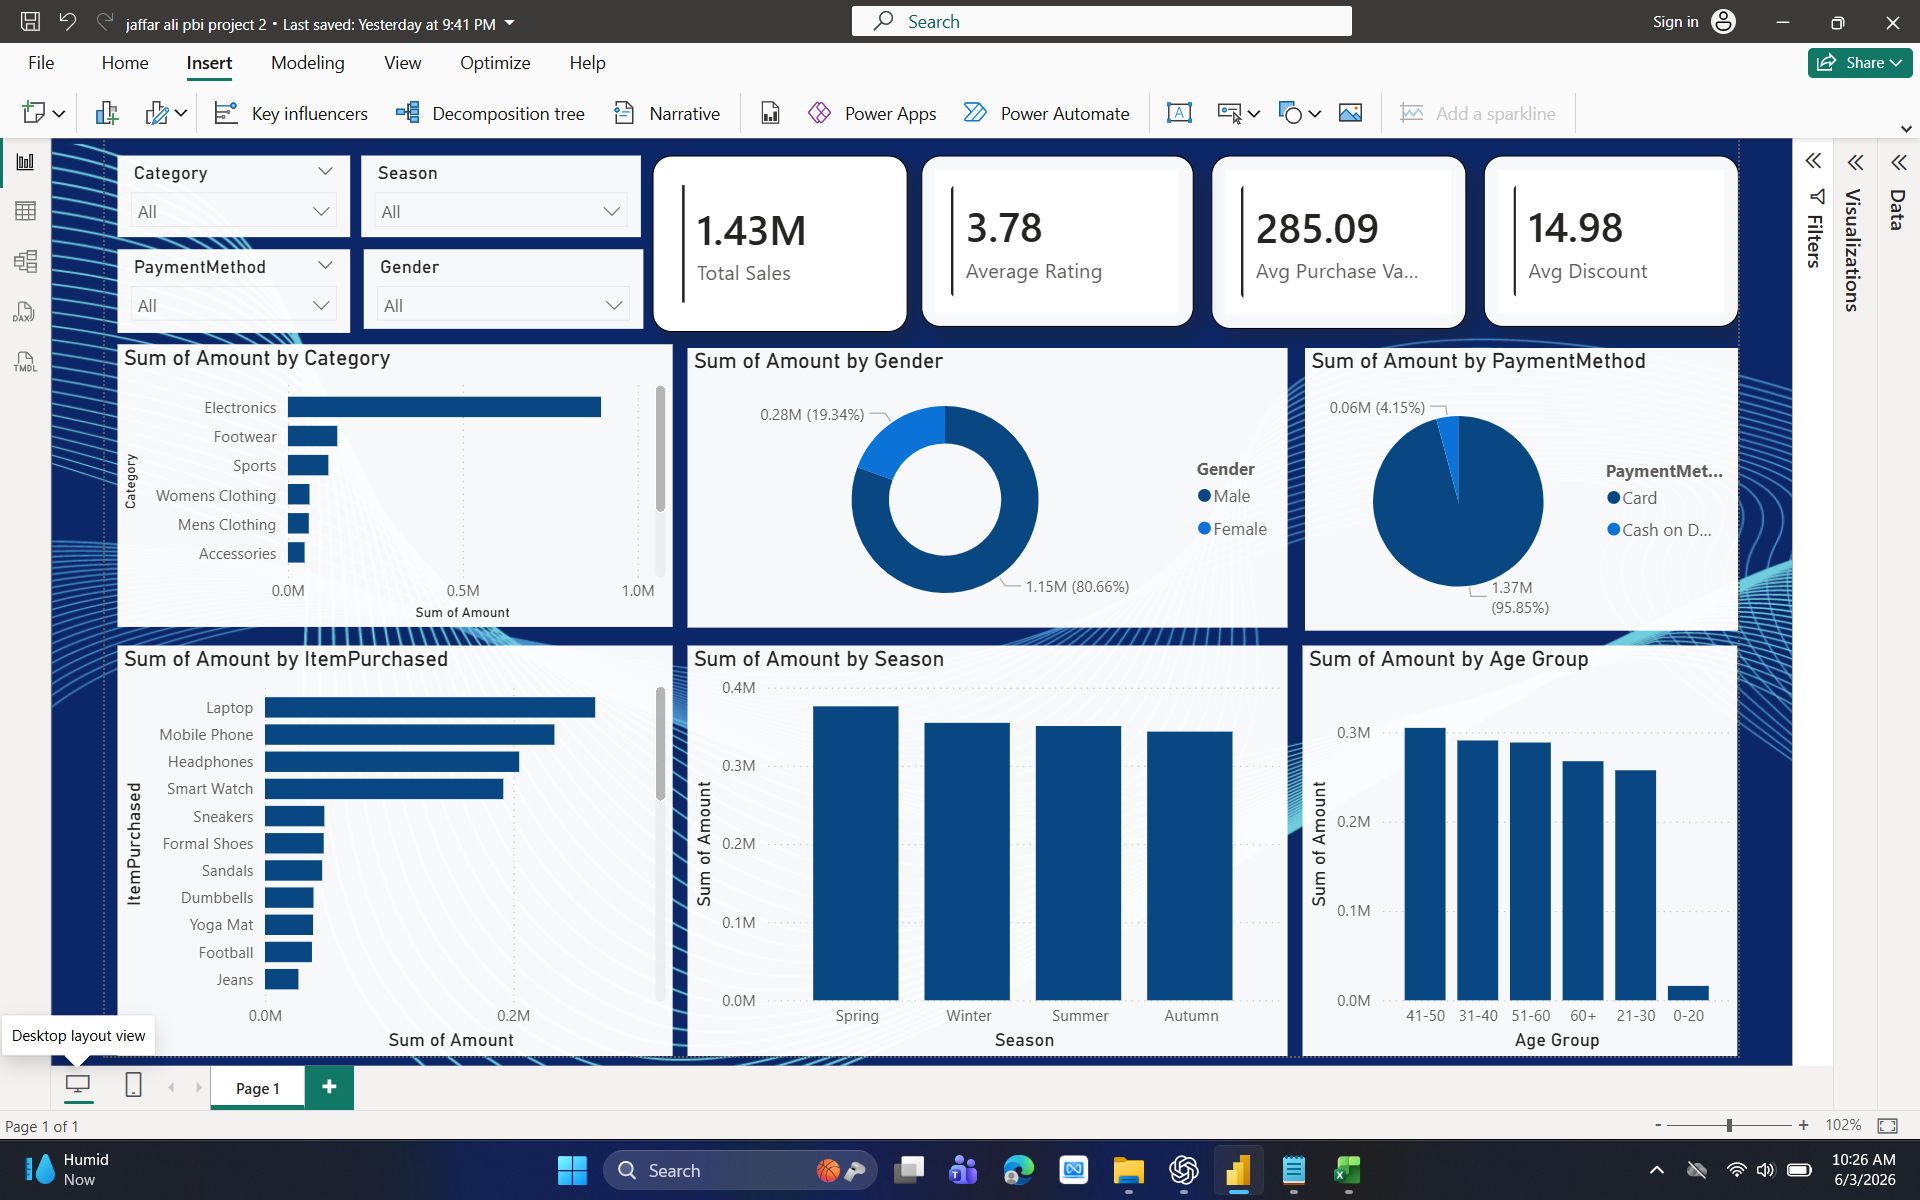

The dashboard page shown, as its layout file describes it:
{"tool":"powerbi","page":{"name":"Page 1","canvas":[1280,720],"ordinal":0},"visuals":[{"type":"cardVisual","fields":{"Data":["store_sales.Total Sales"]},"box":[429.5,13.6,199.8,138.6],"z":0},{"type":"cardVisual","fields":{"Data":["store_sales.Avg Purchase Value"]},"box":[867.1,13.6,199.8,135.9],"z":2000},{"type":"cardVisual","fields":{"Data":["store_sales.Average Rating"]},"box":[640.1,13.6,213.4,134.6],"z":3000},{"type":"cardVisual","fields":{"Data":["store_sales.Avg Discount"]},"box":[1080.5,13.6,199.8,134.6],"z":4000},{"type":"clusteredBarChart","fields":{"Y":["Sum(store_sales.Amount)"],"Category":["store_sales.Category"]},"box":[9.5,161.7,434.9,221.5],"z":5000},{"type":"clusteredBarChart","fields":{"Category":["store_sales.ItemPurchased"],"Y":["Sum(store_sales.Amount)"]},"box":[9.5,398.2,434.9,322.1],"z":6000},{"type":"donutChart","fields":{"Category":["store_sales.Gender"],"Y":["Sum(store_sales.Amount)"]},"box":[456.7,164.5,470.3,218.8],"z":7000},{"type":"columnChart","fields":{"Category":["store_sales.Season"],"Y":["Sum(store_sales.Amount)"]},"box":[456.7,398.2,470.3,322.1],"z":8000},{"type":"pieChart","fields":{"Category":["store_sales.PaymentMethod"],"Y":["Sum(store_sales.Amount)"]},"box":[940.5,164.5,339.8,221.5],"z":9000},{"type":"columnChart","fields":{"Category":["store_sales.Age Group"],"Y":["Sum(store_sales.Amount)"]},"box":[939.1,398.2,341.1,322.1],"z":10000},{"type":"slicer","fields":{"Values":["store_sales.Gender"]},"box":[202.5,87,218.8,62.5],"z":11000},{"type":"slicer","fields":{"Values":["store_sales.Category"]},"box":[9.5,13.6,182.1,63.9],"z":12000},{"type":"slicer","fields":{"Values":["store_sales.Season"]},"box":[201.1,13.6,218.8,63.9],"z":13000},{"type":"slicer","fields":{"Values":["store_sales.PaymentMethod"]},"box":[9.5,87,182.1,65.2],"z":14000}]}

Visuals, with their boxes on the page's 1280x720 design canvas (x1, y1, x2, y2). These are canvas units, not pixel positions in the 1920x1200 screenshot, which may show the page scaled, cropped or inside an application window:
cardVisual - store_sales.Total Sales: [430, 14, 629, 152]
cardVisual - store_sales.Avg Purchase Value: [867, 14, 1067, 150]
cardVisual - store_sales.Average Rating: [640, 14, 854, 148]
cardVisual - store_sales.Avg Discount: [1080, 14, 1280, 148]
clusteredBarChart - Sum(store_sales.Amount) x store_sales.Category: [10, 162, 444, 383]
clusteredBarChart - store_sales.ItemPurchased x Sum(store_sales.Amount): [10, 398, 444, 720]
donutChart - store_sales.Gender x Sum(store_sales.Amount): [457, 164, 927, 383]
columnChart - store_sales.Season x Sum(store_sales.Amount): [457, 398, 927, 720]
pieChart - store_sales.PaymentMethod x Sum(store_sales.Amount): [940, 164, 1280, 386]
columnChart - store_sales.Age Group x Sum(store_sales.Amount): [939, 398, 1280, 720]
slicer - store_sales.Gender: [202, 87, 421, 150]
slicer - store_sales.Category: [10, 14, 192, 78]
slicer - store_sales.Season: [201, 14, 420, 78]
slicer - store_sales.PaymentMethod: [10, 87, 192, 152]
